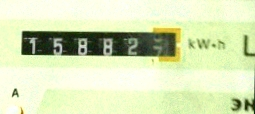1: (27, 35, 36, 54)
2: (126, 35, 138, 56)
5: (49, 36, 63, 55)
7: (150, 43, 162, 55)
8: (100, 35, 113, 56), (76, 35, 88, 56)
screen: (15, 22, 185, 66)
